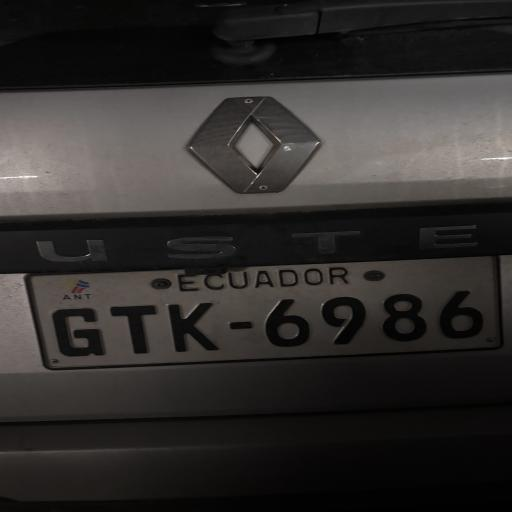license_plate: (29, 257, 500, 368)
